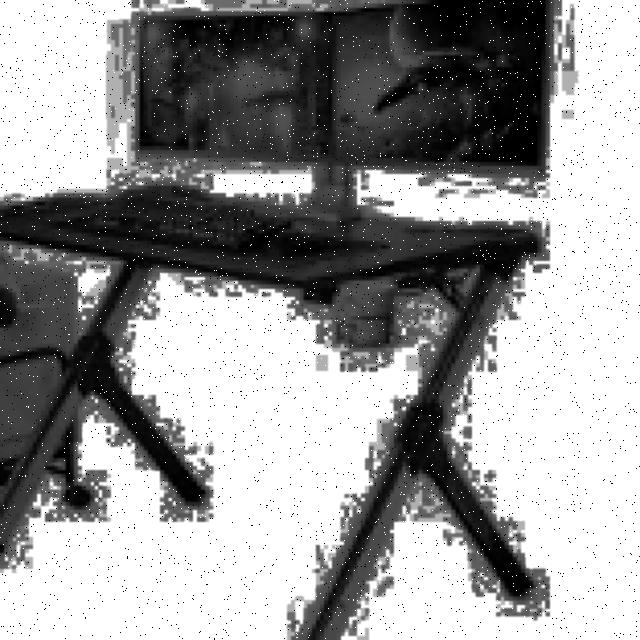table: (0, 185, 541, 640)
